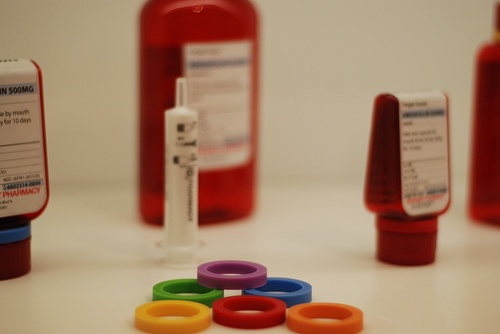pill bottle: (362, 89, 454, 269)
